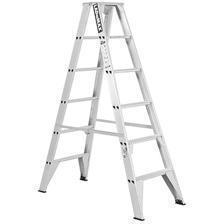Hand: (111, 1, 183, 197), (39, 9, 106, 207)
